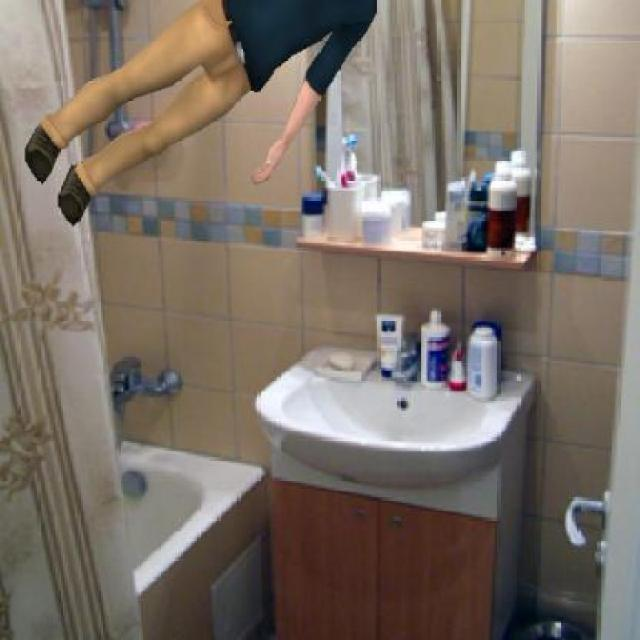Person: (22, 0, 380, 228)
